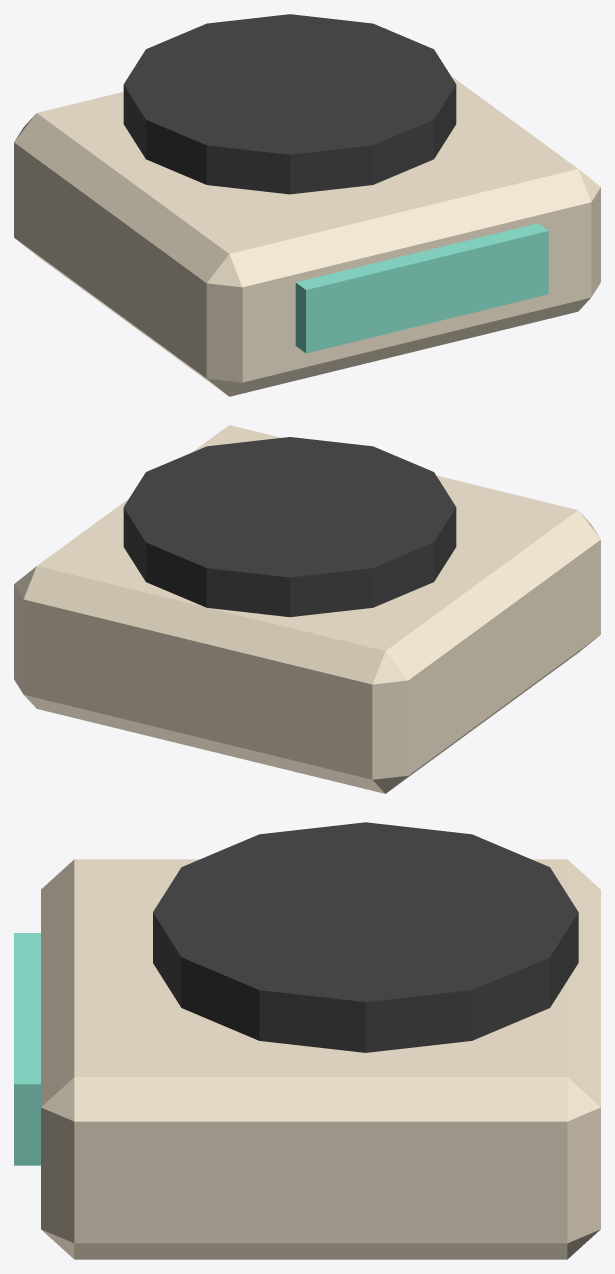
The picture shows the model from 3 angles, top to bottom: view 1: azimuth 30°, elevation 25°; view 2: azimuth 150°, elevation 25°; view 3: azimuth 270°, elevation 25°; orthographic projection. The views are drawn at different scales.
Parts seen in each view (by area): view 1: Instrument, Weighing pan, Readout; view 2: Instrument, Weighing pan; view 3: Instrument, Weighing pan, Readout.
Boxes of the visible parts, <box> form: Instrument: <box>14,28,600,396</box>; Weighing pan: <box>123,14,456,194</box>; Readout: <box>295,223,548,353</box>; Instrument: <box>14,425,600,793</box>; Weighing pan: <box>123,437,456,617</box>; Instrument: <box>41,859,600,1259</box>; Weighing pan: <box>153,822,578,1052</box>; Readout: <box>14,933,40,1165</box>.
Bounding box in the file's own units: 26 × 11.75 × 26.2.
